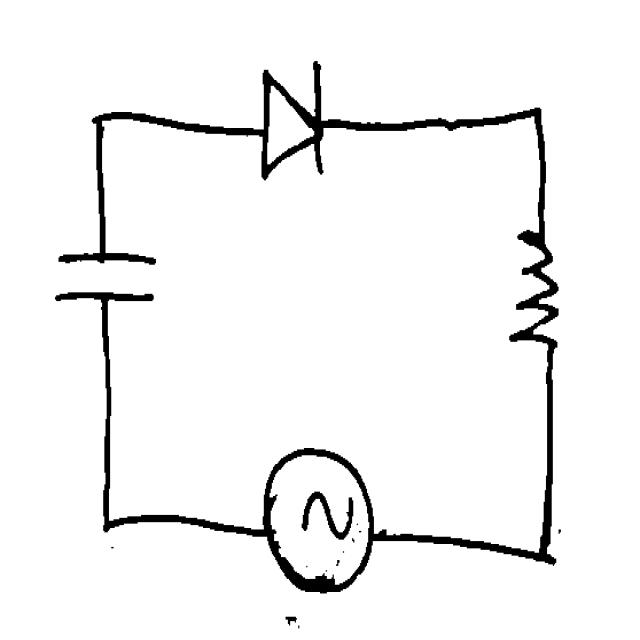ac: (252, 433, 384, 601)
capacitor: (40, 230, 170, 322)
diode: (242, 44, 338, 188)
resistor: (504, 205, 570, 373)
